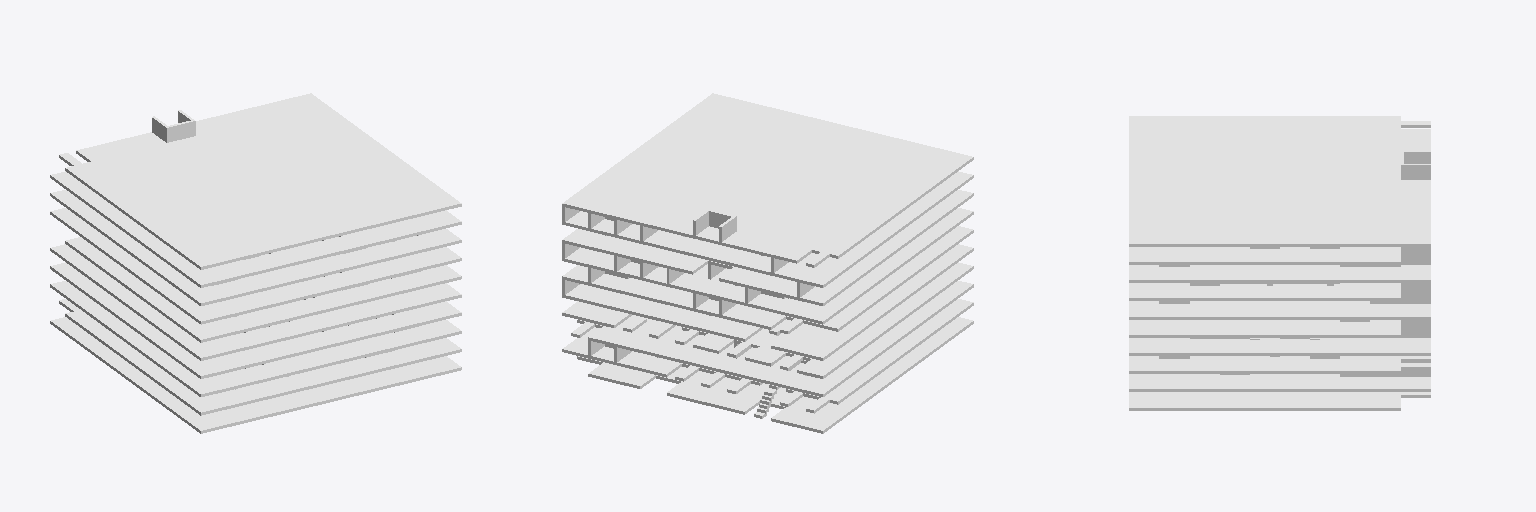
File: level.obj
3 renders of one model, left to right at view 1: azimuth 30°, elevation 25°; view 2: azimuth 150°, elevation 25°; view 3: azimuth 270°, elevation 25°, orthographic.
Visible parts, largest first — view 1: object 1; view 2: object 1; view 3: object 1.
Part boxes in pixels (x1,y1,x2,y2): object 1: (50,93,461,433); object 1: (562,93,973,433); object 1: (1129,116,1430,410).
Size of the model in its own units: 9 by 6 by 9.